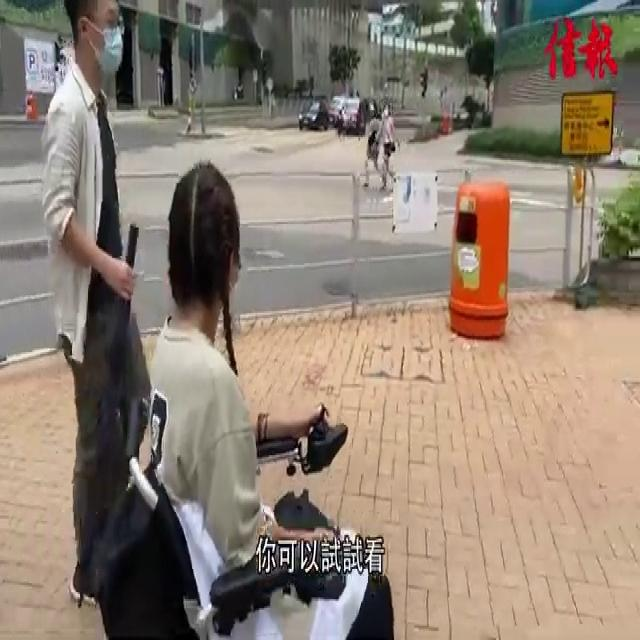wheelchairs: (78, 368, 412, 640)
